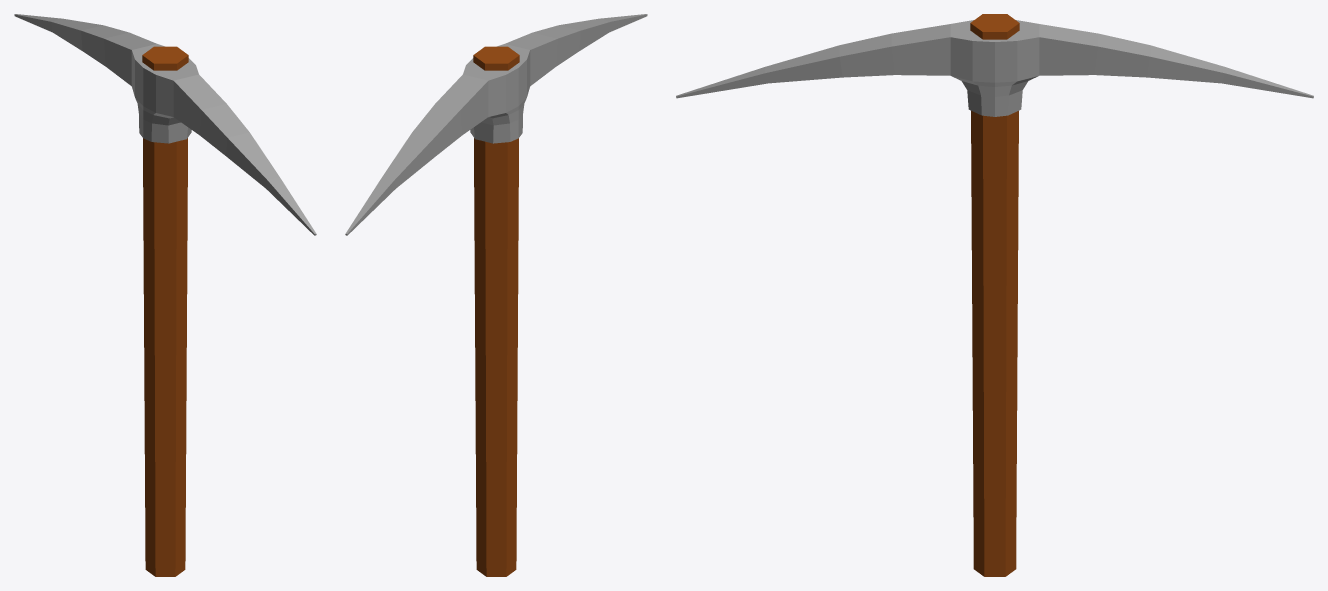
Rendered from Pickaxe.fbx.
The picture shows the model from 3 angles, left to right: view 1: azimuth 30°, elevation 25°; view 2: azimuth 150°, elevation 25°; view 3: azimuth 270°, elevation 25°; orthographic projection. The views are drawn at different scales.
Parts seen in each view (by area): view 1: Pickaxe; view 2: Pickaxe; view 3: Pickaxe.
Part boxes in pixels (<box>): Pickaxe: <box>14,14,316,576</box>; Pickaxe: <box>345,14,647,576</box>; Pickaxe: <box>676,14,1313,576</box>.
Size of the model in its own units: 222 by 2451 by 2595.
